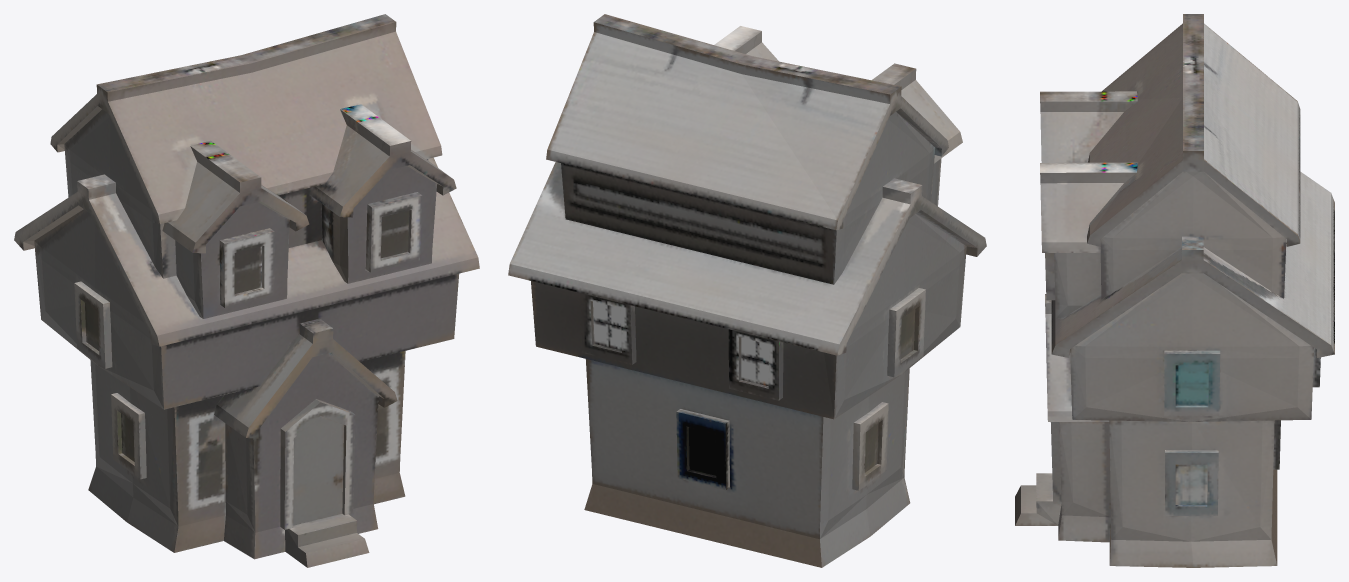
Rendered from textured_texpainter.glb.
The picture shows the model from 3 angles, left to right: view 1: azimuth 30°, elevation 25°; view 2: azimuth 150°, elevation 25°; view 3: azimuth 270°, elevation 25°; orthographic projection. The views are drawn at different scales.
Parts seen in each view (by area): view 1: Node-Mesh; view 2: Node-Mesh; view 3: Node-Mesh.
Boxes of the visible parts, bbox=[...] form: Node-Mesh: bbox=[14, 14, 479, 567]; Node-Mesh: bbox=[508, 14, 986, 567]; Node-Mesh: bbox=[1015, 14, 1334, 567].
Bounding box in the file's own units: 1.56 × 2 × 1.35.
Materials: 1 (1 with a texture image).
